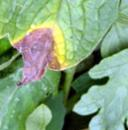Tomato Early blight leaf: (0, 0, 128, 120)
